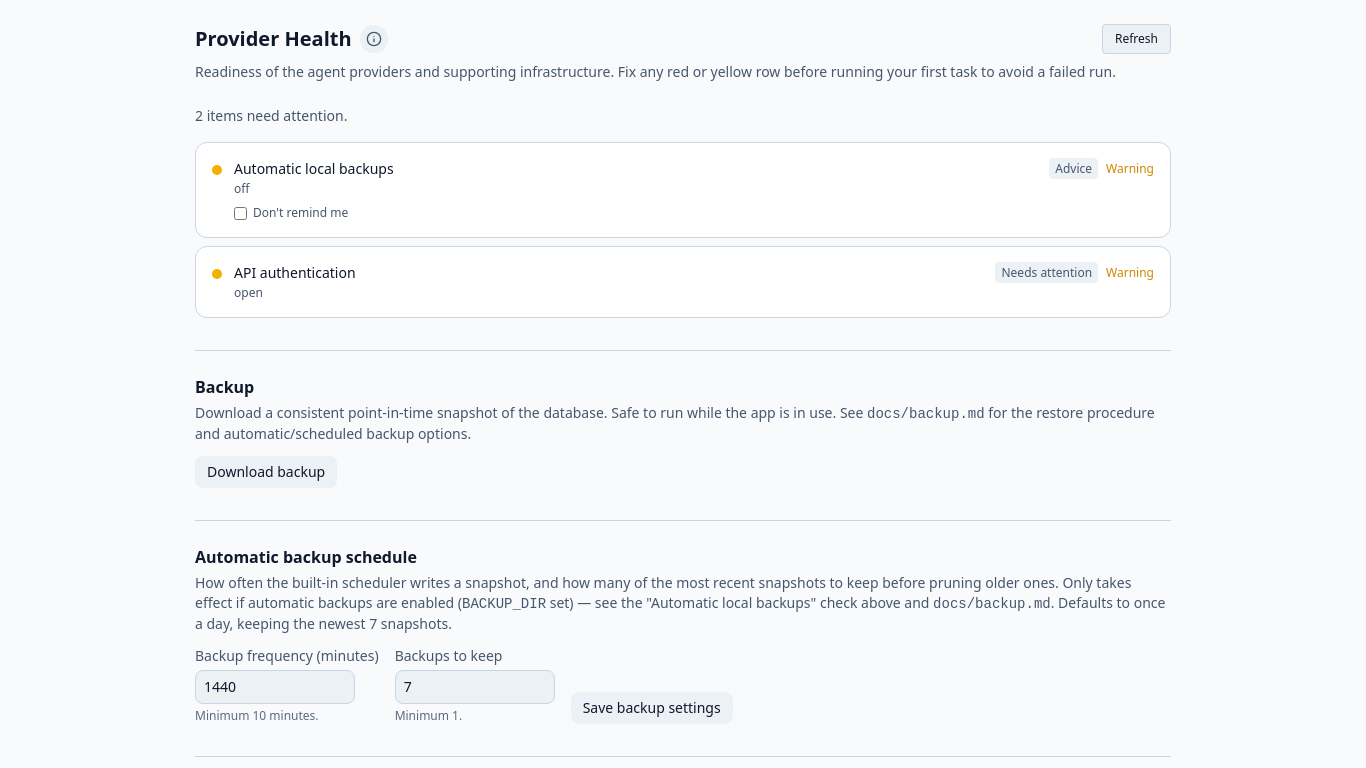
Test: HealthPage snooze › snoozes advice (persisted, lowers the count) but offers no toggle for api_auth
Expected: the text "2 items need attention." is shown, [195, 106, 347, 125]
What coordinates should you click on to do the following:
click the checkbox labelled "Don't remind me"
I would click on:
 (240, 213)
Its box is [234, 206, 247, 220].
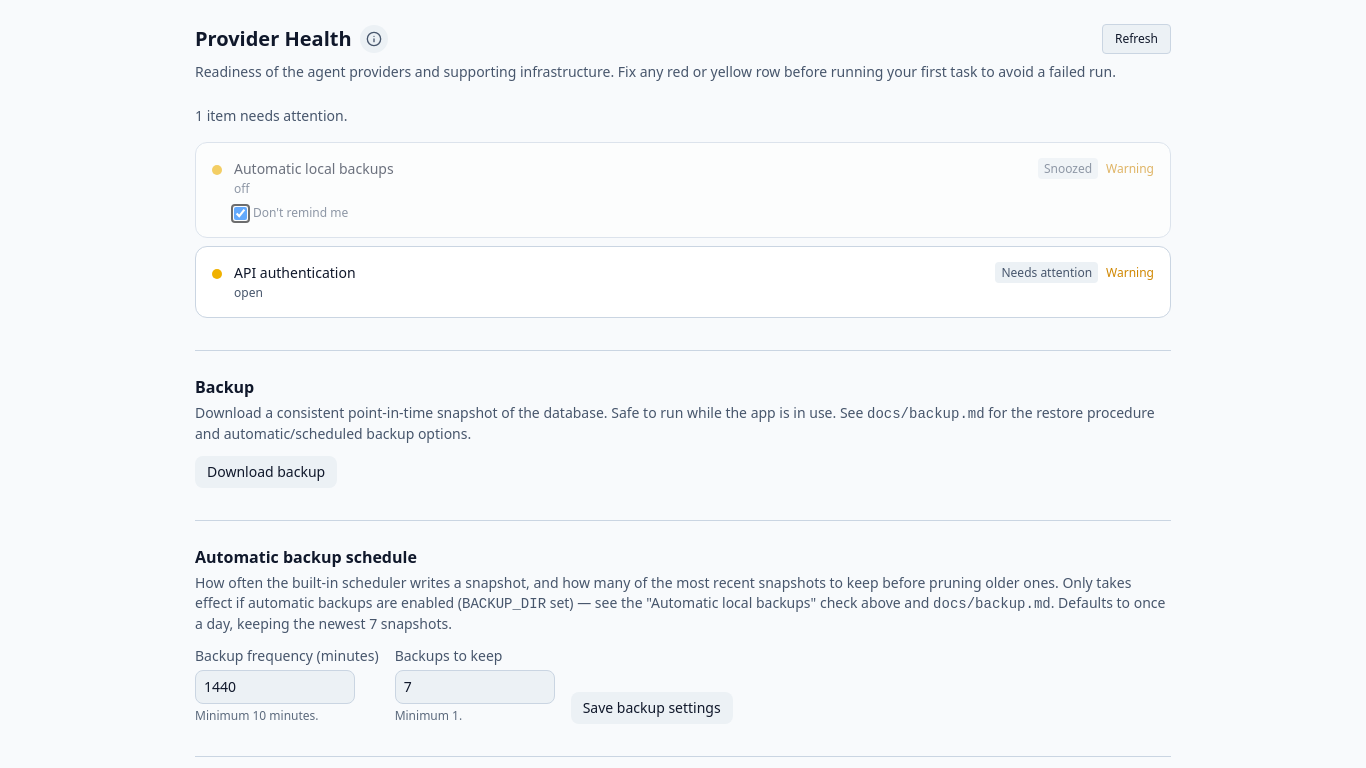
Expected: the text "1 item needs attention." is shown, [195, 106, 347, 125]
Expected: the text "Snoozed" is shown, [1038, 158, 1098, 179]
